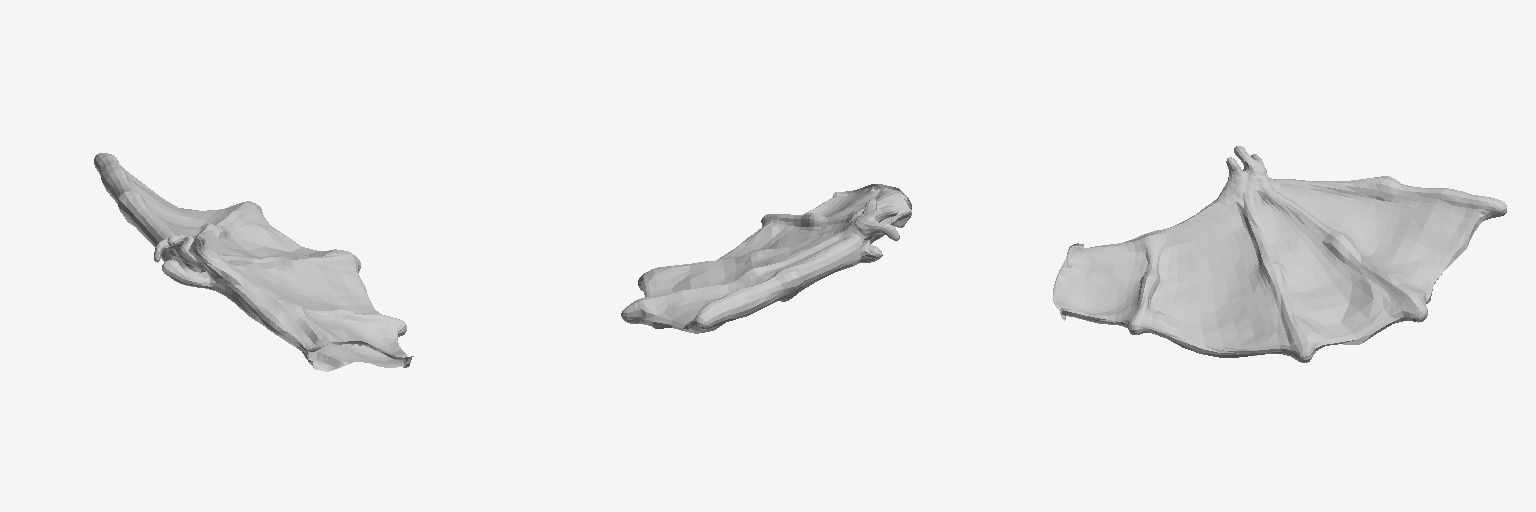
Rendered from Ala1Tiamat.obj.
3 renders of one model, left to right at view 1: azimuth 30°, elevation 25°; view 2: azimuth 150°, elevation 25°; view 3: azimuth 270°, elevation 25°, orthographic.
Parts seen in each view (by area): view 1: Ala1Tiamat; view 2: Ala1Tiamat; view 3: Ala1Tiamat.
Part boxes in pixels (x1,y1,x2,y2): Ala1Tiamat: (94,153,413,371); Ala1Tiamat: (621,184,911,333); Ala1Tiamat: (1053,146,1506,362).
Size of the model in its own units: 4.5 by 2.2 by 7.6.